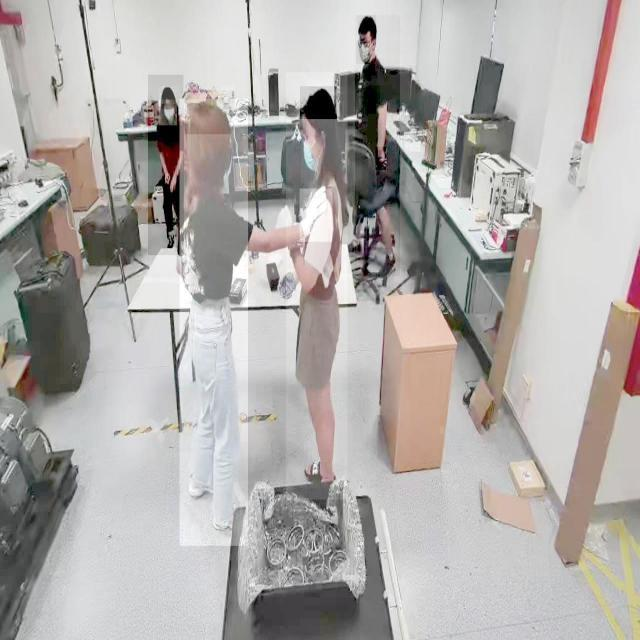gloves: (300, 188, 332, 242)
